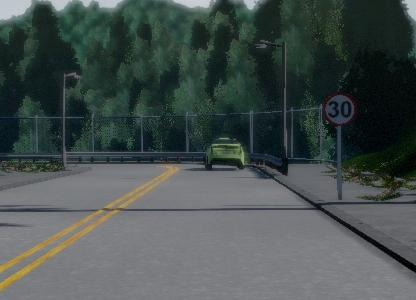Speed_30: (321, 90, 360, 130)
